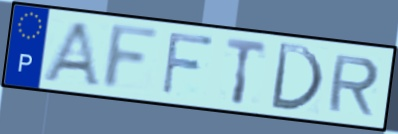A: (39, 20, 104, 90)
D: (267, 41, 326, 115)
F: (98, 22, 165, 93), (158, 29, 217, 98)
R: (325, 53, 382, 118)
T: (223, 35, 269, 107)
